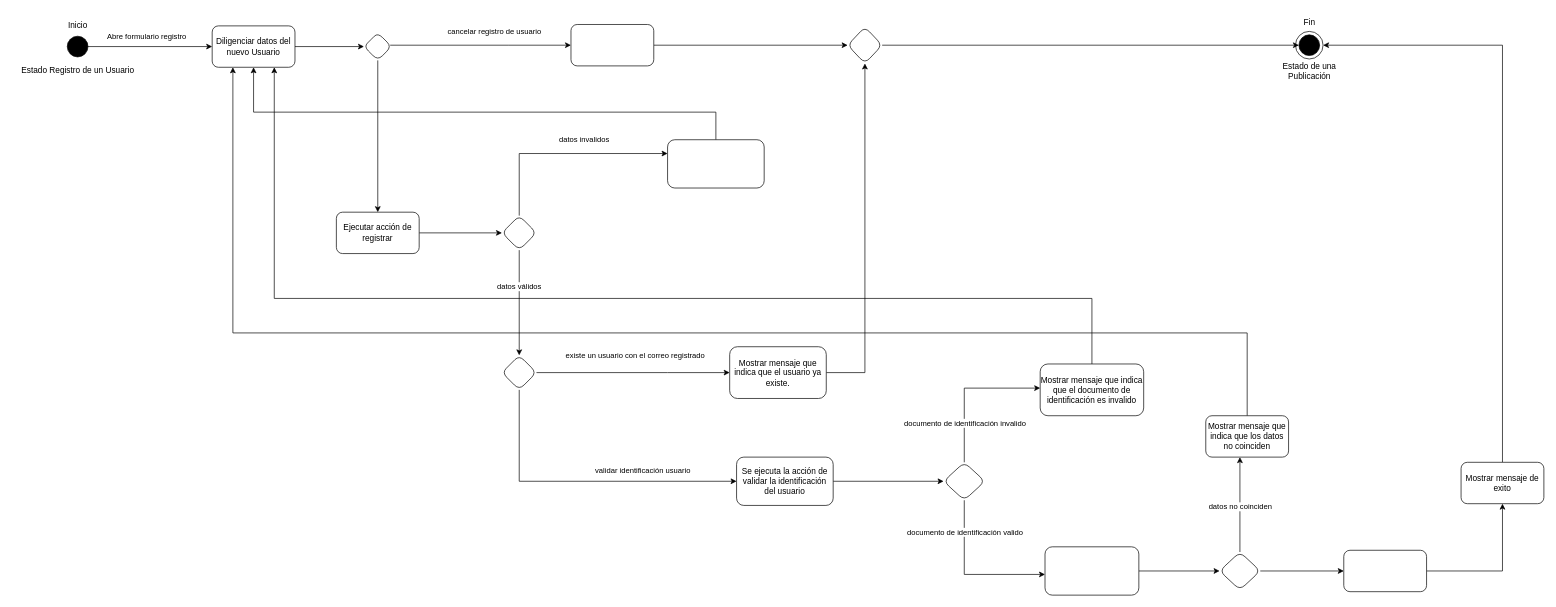
The diagram is 1556 pixels wide and 607 high, and some of its shapes have lost their labels. The centre of each missing label's shape, as x and y in pixels:
"Ejecutar acción de registrar usuario" goes at (x=1385, y=571).
"Ejecutar la acción de cancelar" goes at (x=612, y=45).
"Mostrar mensaje con el detalle del error" goes at (x=715, y=163).
"Se ejecuta la acción de verificar que los datos coincidan con los registrados" goes at (x=1091, y=570).
